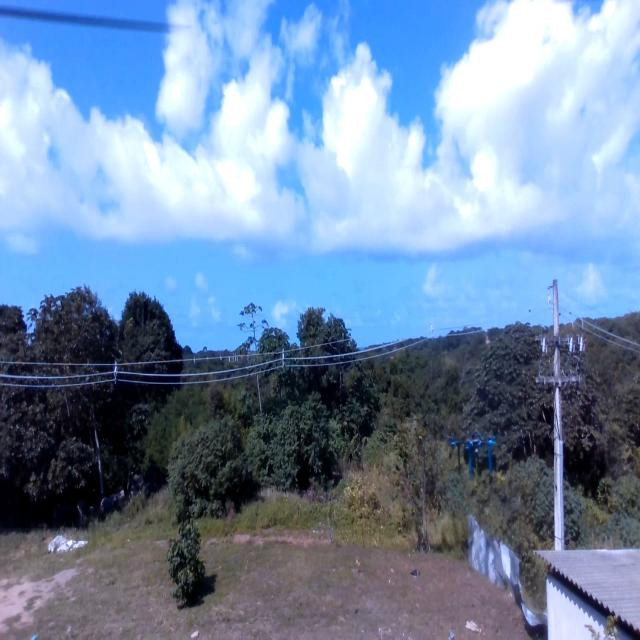-uav-: (445, 415, 511, 496)
